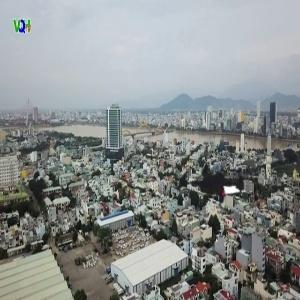drone: (155, 137, 266, 248)
